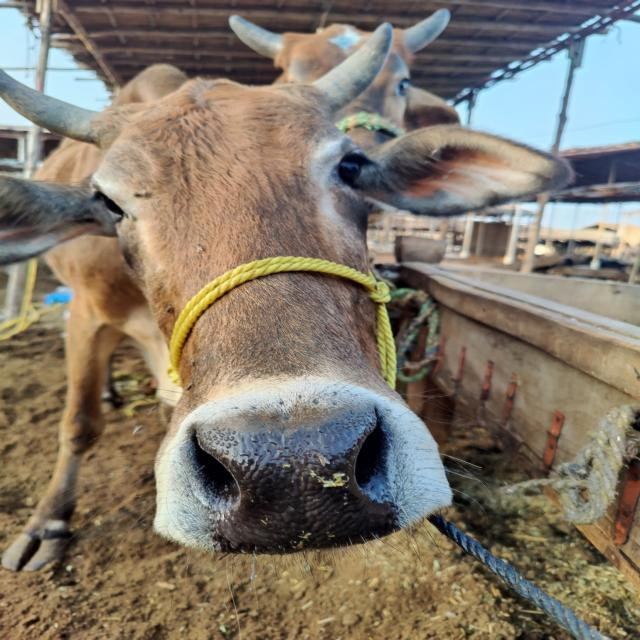muzzles: (174, 400, 431, 552)
